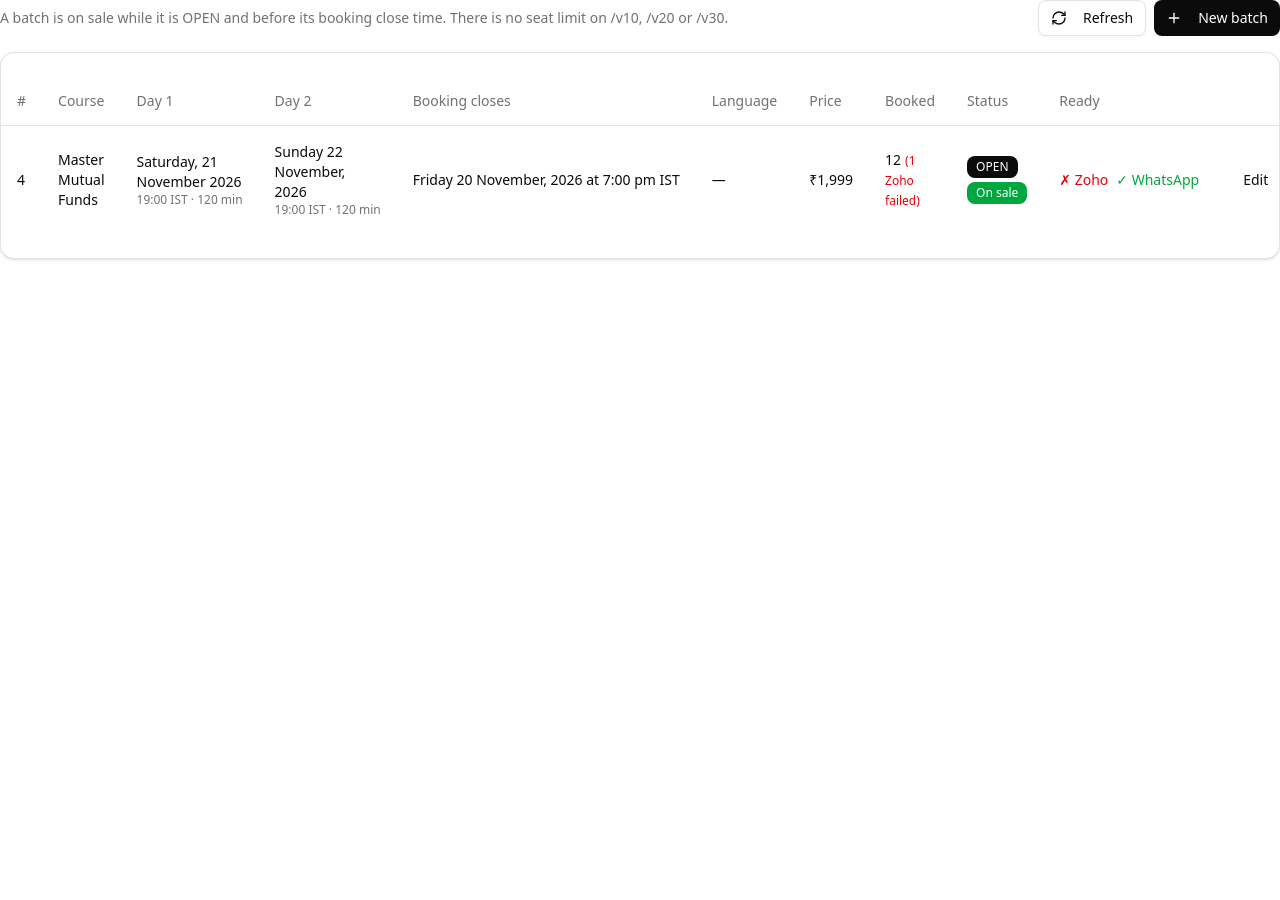
Test: BatchesManagement (spec 8.2) › does not tie a batch to Saturday and Sunday: day 1 can be any day of the week
Later steps or results of the test are not shown.
Expected: the row with test id "batch-row-4" is shown, [1,125,1279,234]
Expected: the column heading "Day 1" is shown, [121,77,259,125]
Click the button "New batch" at point(1217, 18), box [1154,0,1279,36]
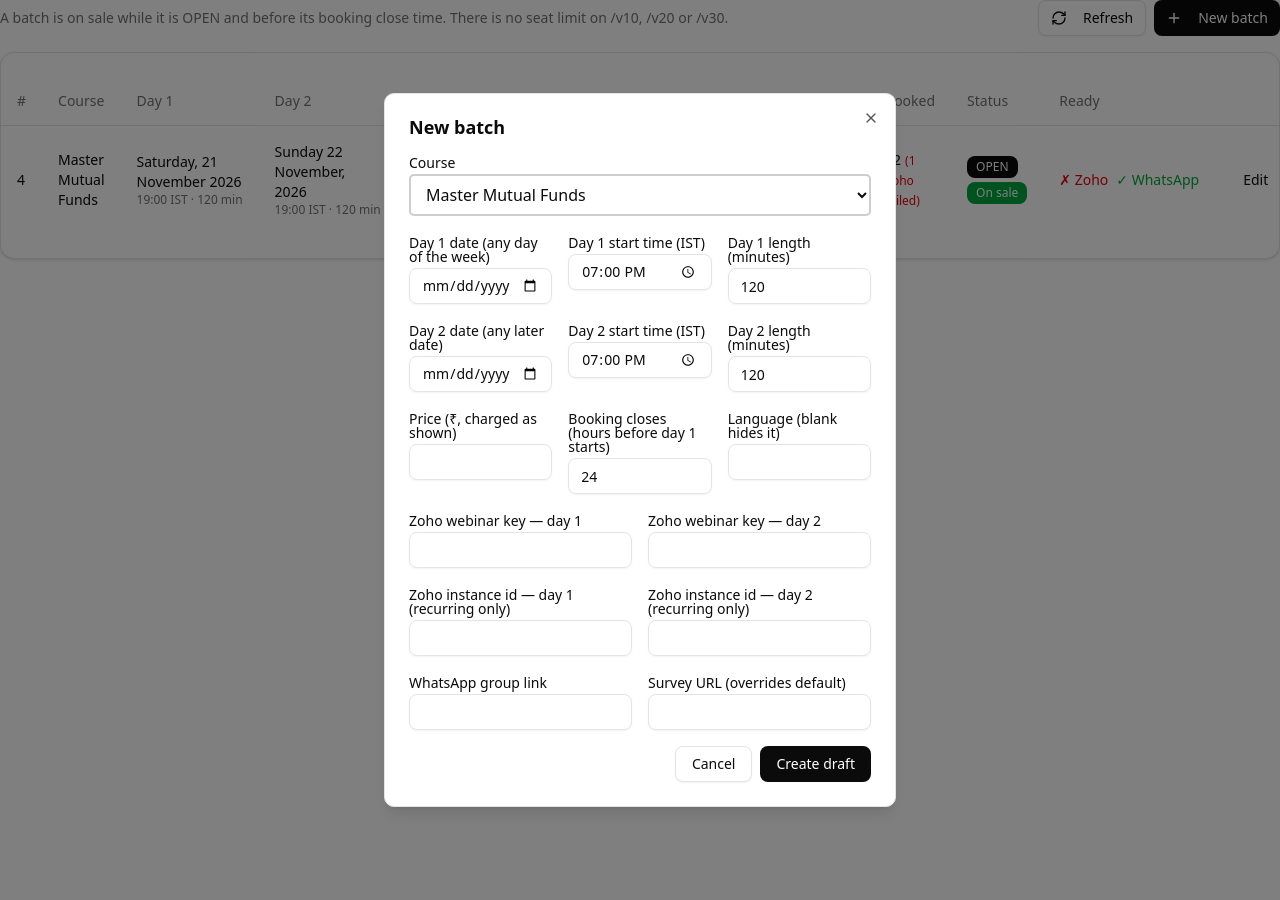
Now the dialog shows "Day 1 date (any day of the week)", box [409,233,538,266]
Now the dialog shows "Zoho webinar key — day 1", box [409,511,582,530]
Now the dialog shows "Zoho webinar key — day 2", box [648,511,821,530]
Note: 25 November 2026 is a Wednesday: the form says which two days that gives.
Type "2026-11-25" into the date field below "Day 1 date (any day of the week)" at point(481, 286), box [409,268,552,304]
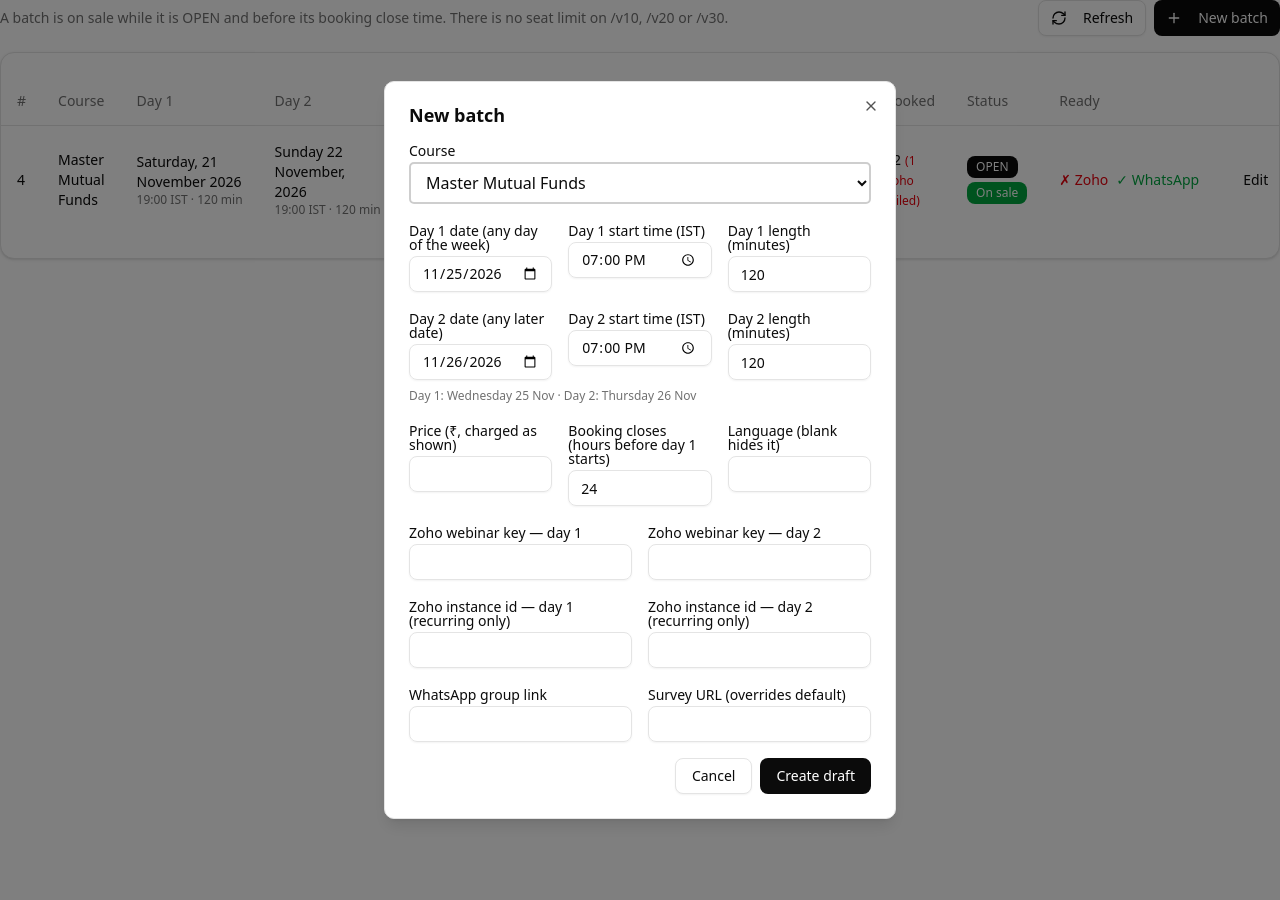
Now the text with test id "batch-days" reads "Day 1: Wednesday 25 Nov · Day 2: Thursday 26 Nov", box [409,387,696,404]
